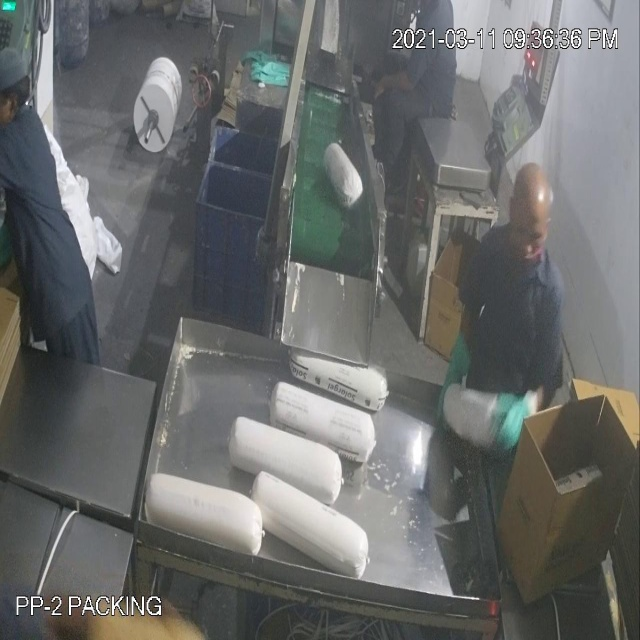Sin_guantes: (369, 58, 408, 102)
